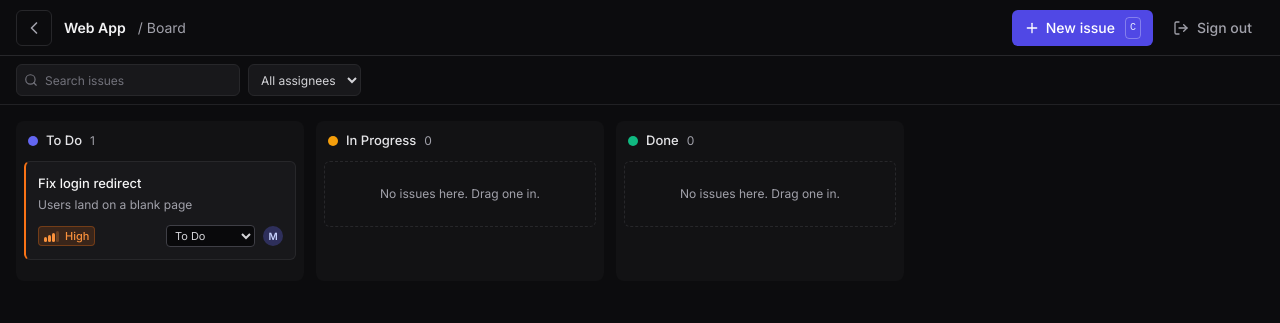
Test case: BoardClient › puts the card back and explains when moving to Done is forbidden (403)
The image size is (1280, 323).
Expected: the button "Fix login redirect" is shown, [38, 174, 283, 193]
Select "Done" in the dropdown named "Move Fix login redirect" at (210, 236), box [166, 225, 255, 247]
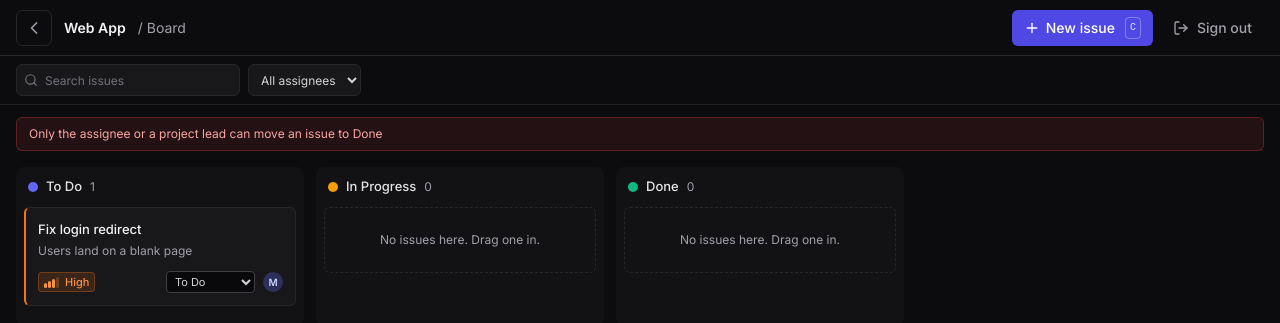
Expected: the button "Fix login redirect" is shown, [38, 220, 283, 239]
Result: the message reads "Only the assignee or a project lead can move an issue to Done" at [29, 126, 383, 141]
